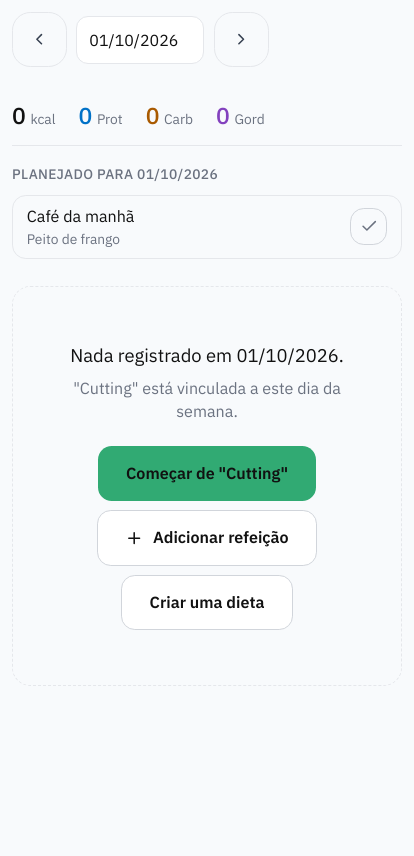
Test: planned meals waiting to be checked › checking a planned meal snapshots it into the diary and drops it from the list
Click the button named "Marcar Café da manhã como comida": (369, 227) 350,208 -> 387,245
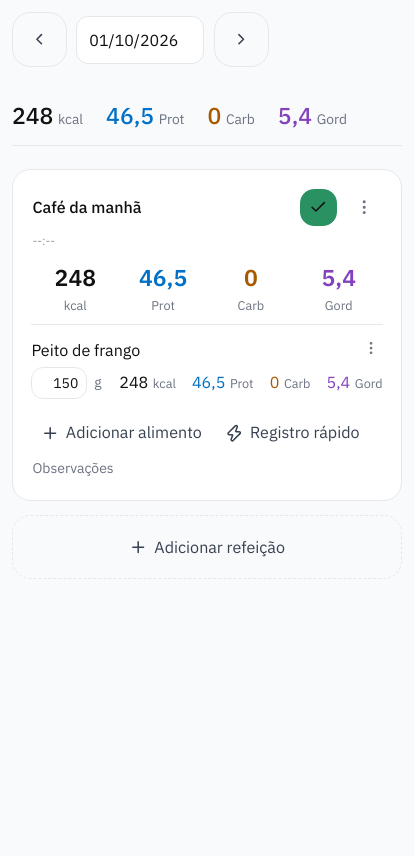
expect the heading "Planejado para" is gone: met
expect the field showing "Café da manhã" is shown: met, box 25,192 -> 297,222
